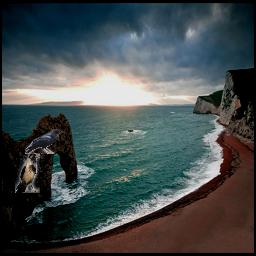Crow: (15, 153, 40, 193), (25, 129, 65, 154)
